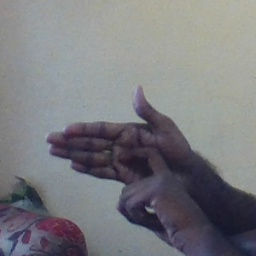R: (46, 85, 185, 221)
